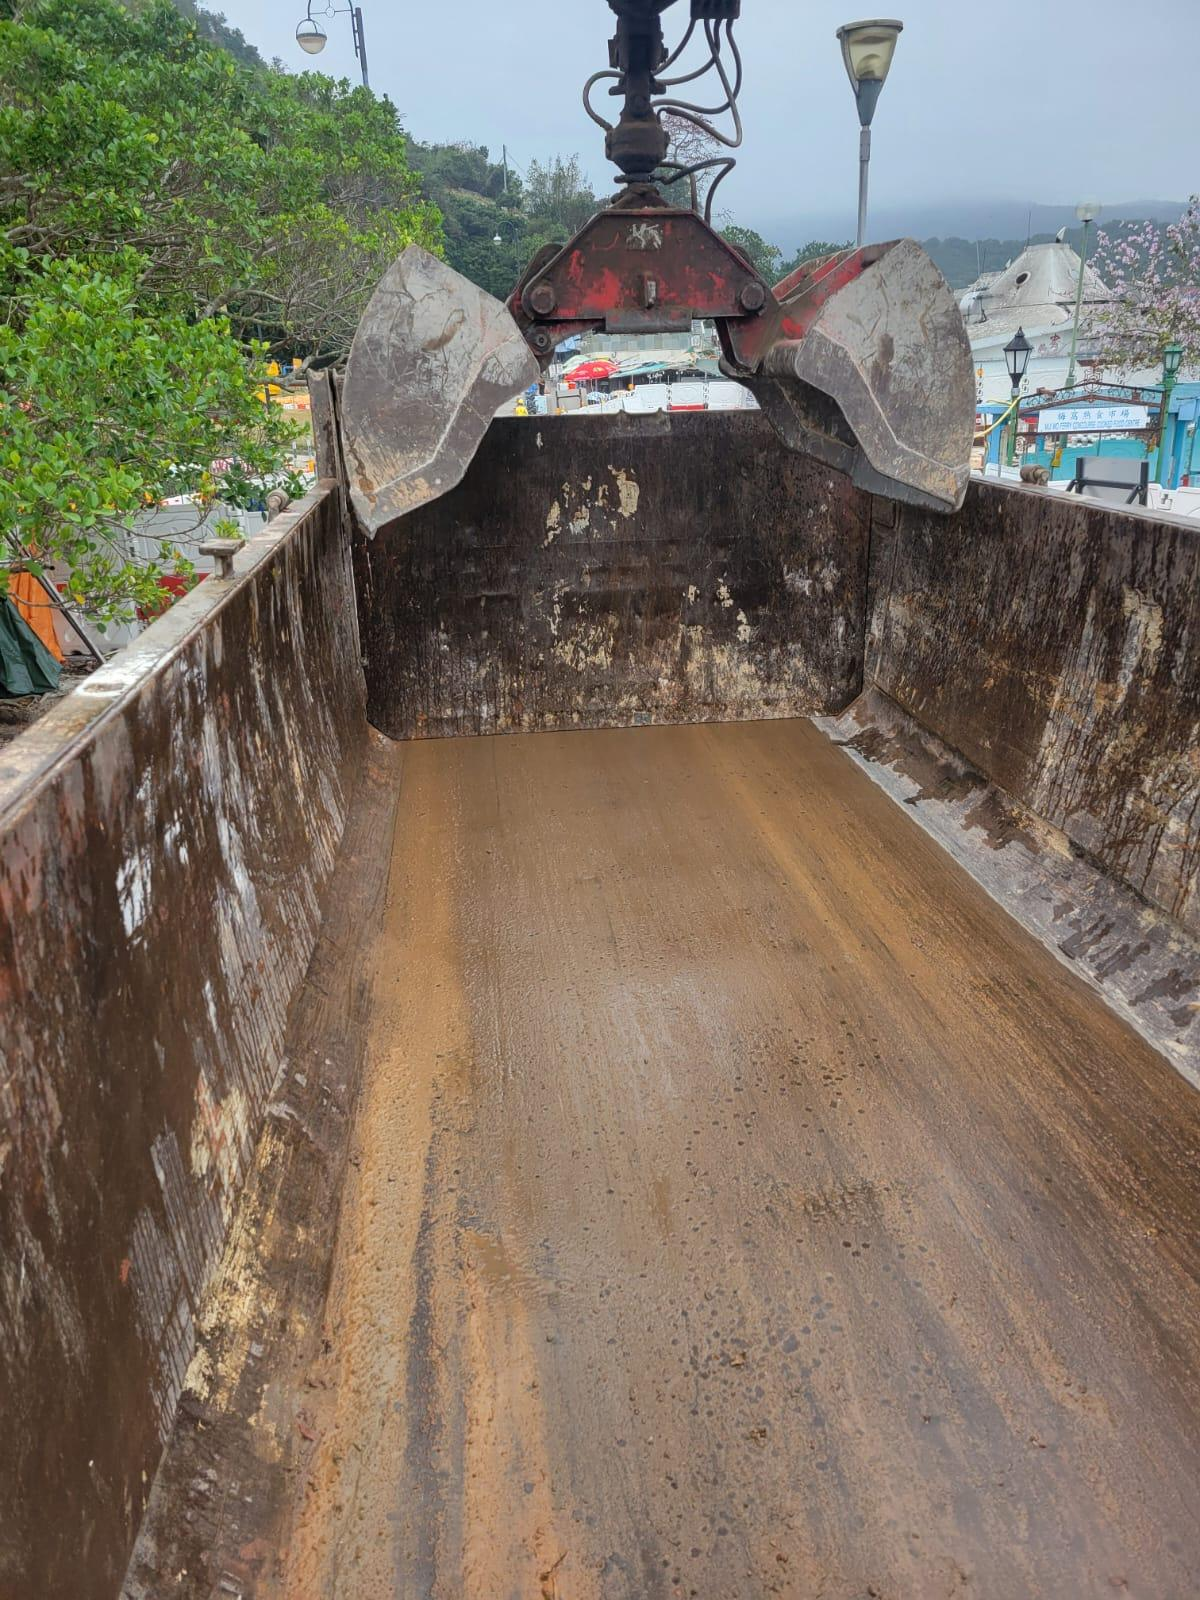nothing: (205, 721, 1200, 1600)
